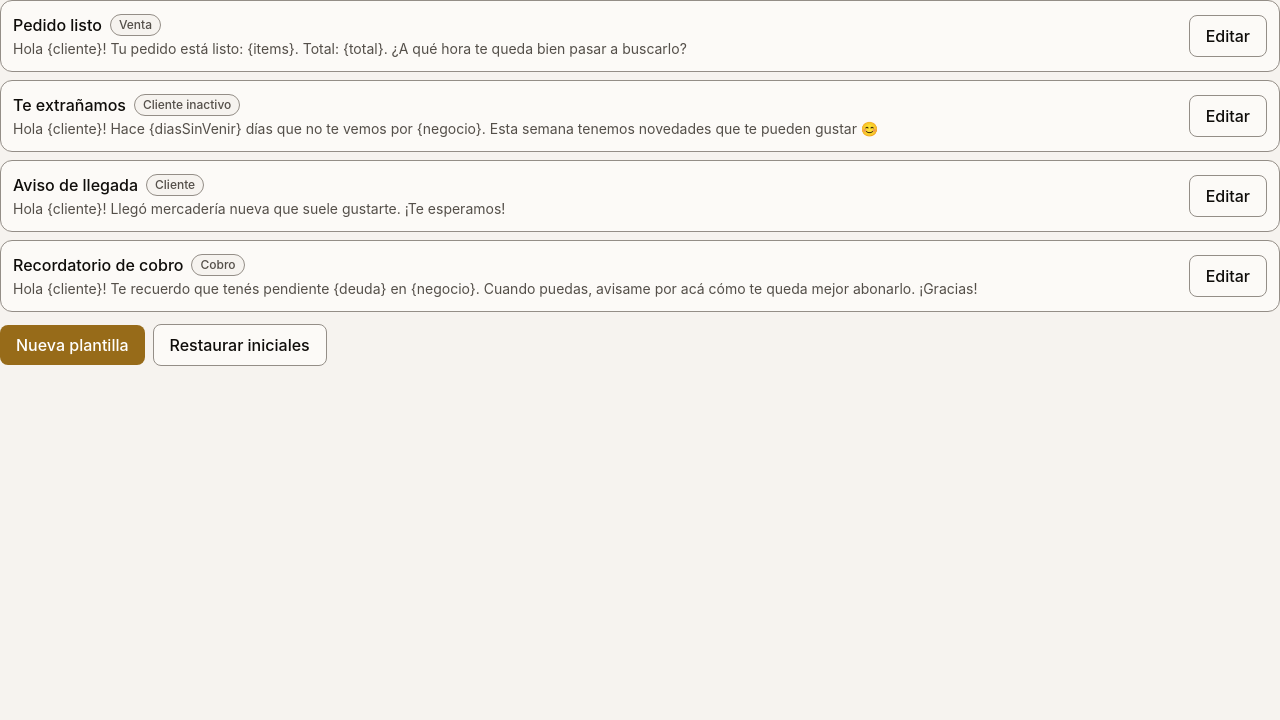
Test: SeccionPlantillasWhatsApp › con plantillas › sin conexión: dispara la escritura sin esperar y avisa con un toast informativo
Click the button "Editar" in the row of "Pedido listo" at (1228, 36), box [1189,15,1267,57]
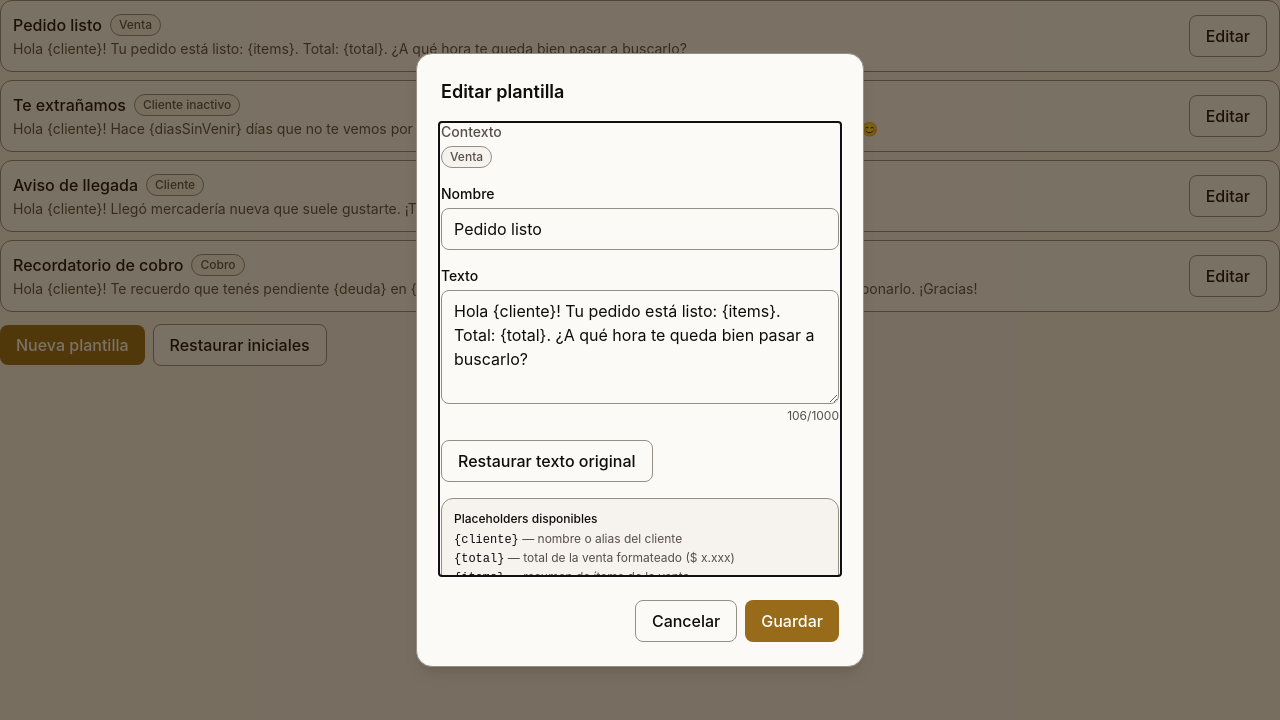
Click the button "Guardar" at (792, 621), box [745,600,839,642]
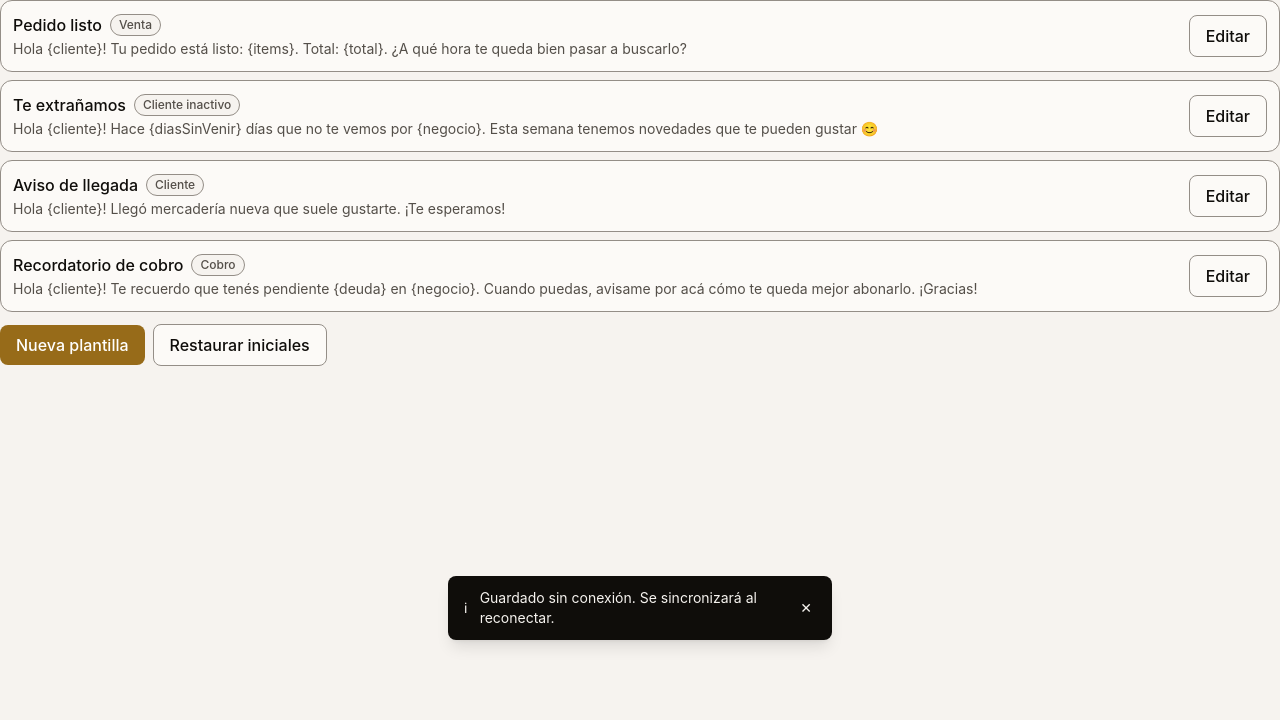
Now the text "Guardado sin conexión. Se sincronizará al reconectar." is shown, box [480,588,784,628]
